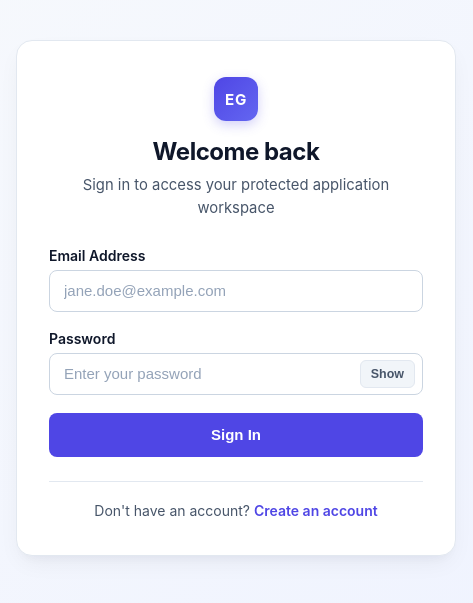
Test case: Frontend Authentication & Protected Routing Suite › 2. Signin form validation › validates email format and required password before submitting
This screenshot has width=473, height=603.
Type "bad-email" into the field labelled "Email Address" at (236, 291), box 49,270 -> 423,312
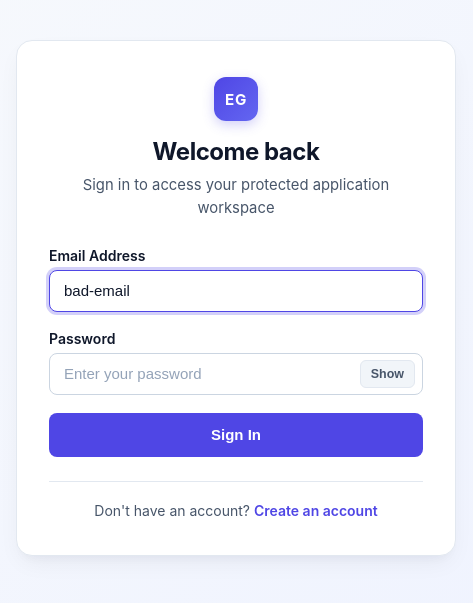
Click the button "Sign In" at (236, 435), box 49,413 -> 423,457
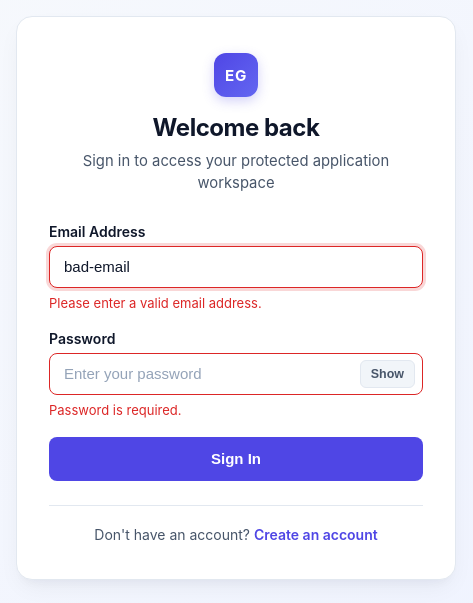
expect the text "Please enter a valid email address." is shown: met, box 49,294 -> 262,310
expect the text "Password is required." is shown: met, box 49,402 -> 182,418
